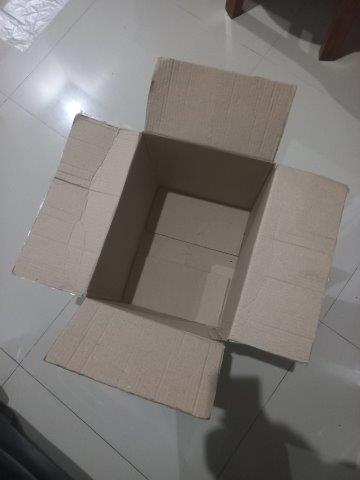kardus: (10, 58, 349, 418)
